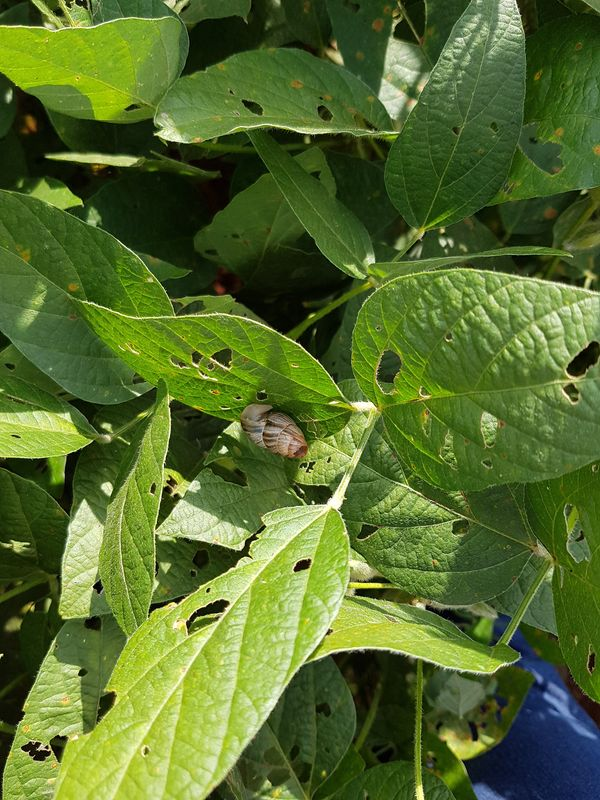Gastropoda: (228, 391, 322, 469)
